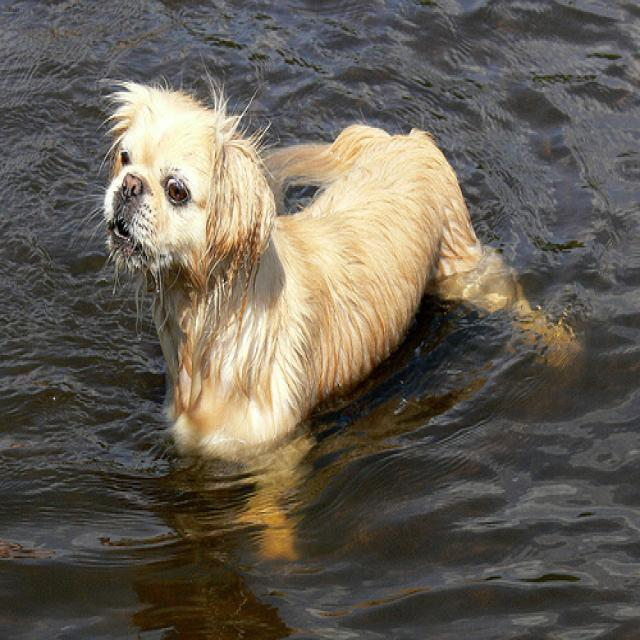dog-japanese_chin: (91, 65, 588, 575)
